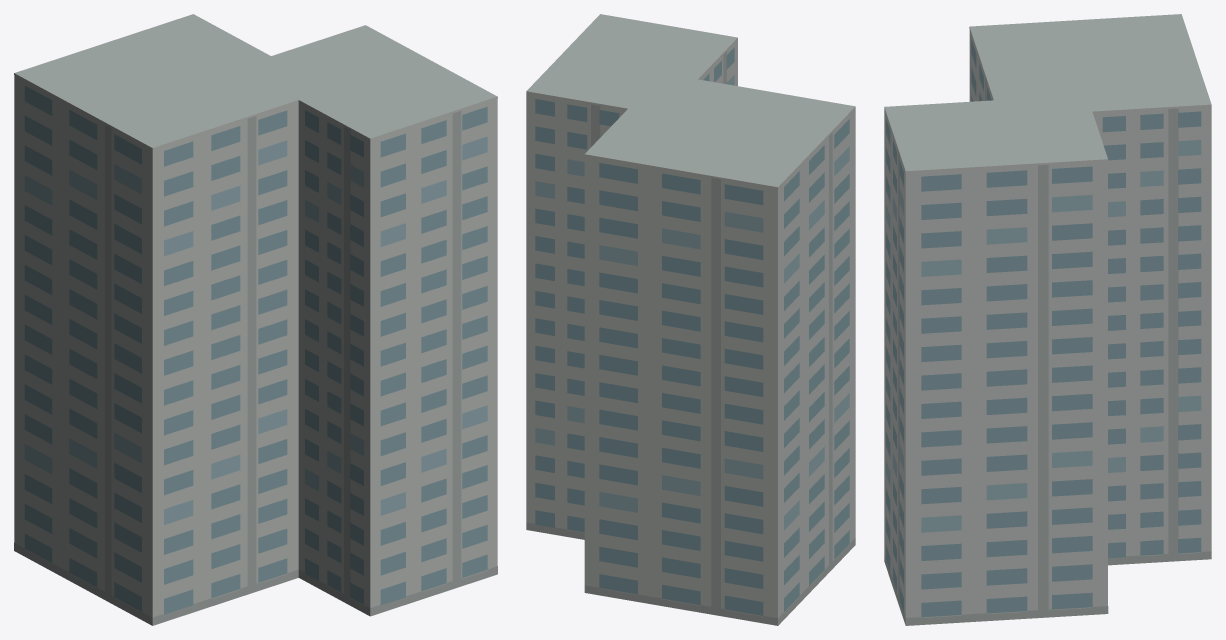
File: residential-88362934-9fc6-44f0-b6b2-1637849d4fd4.glb
3 views of the same model, side by side, from view 1: azimuth 30°, elevation 25°; view 2: azimuth 150°, elevation 25°; view 3: azimuth 270°, elevation 25° (orthographic). The views are drawn at different scales.
Visible parts, largest first — view 1: residential-88362934-9fc6-44f0-b6b2-1637849d4fd4.tmp; view 2: residential-88362934-9fc6-44f0-b6b2-1637849d4fd4.tmp; view 3: residential-88362934-9fc6-44f0-b6b2-1637849d4fd4.tmp.
Part boxes in pixels (x1,y1,x2,y2): residential-88362934-9fc6-44f0-b6b2-1637849d4fd4.tmp: (14, 14, 497, 625); residential-88362934-9fc6-44f0-b6b2-1637849d4fd4.tmp: (526, 14, 855, 625); residential-88362934-9fc6-44f0-b6b2-1637849d4fd4.tmp: (884, 14, 1211, 625).
Bounding box in the file's own units: 42.28 × 57 × 37.19.
